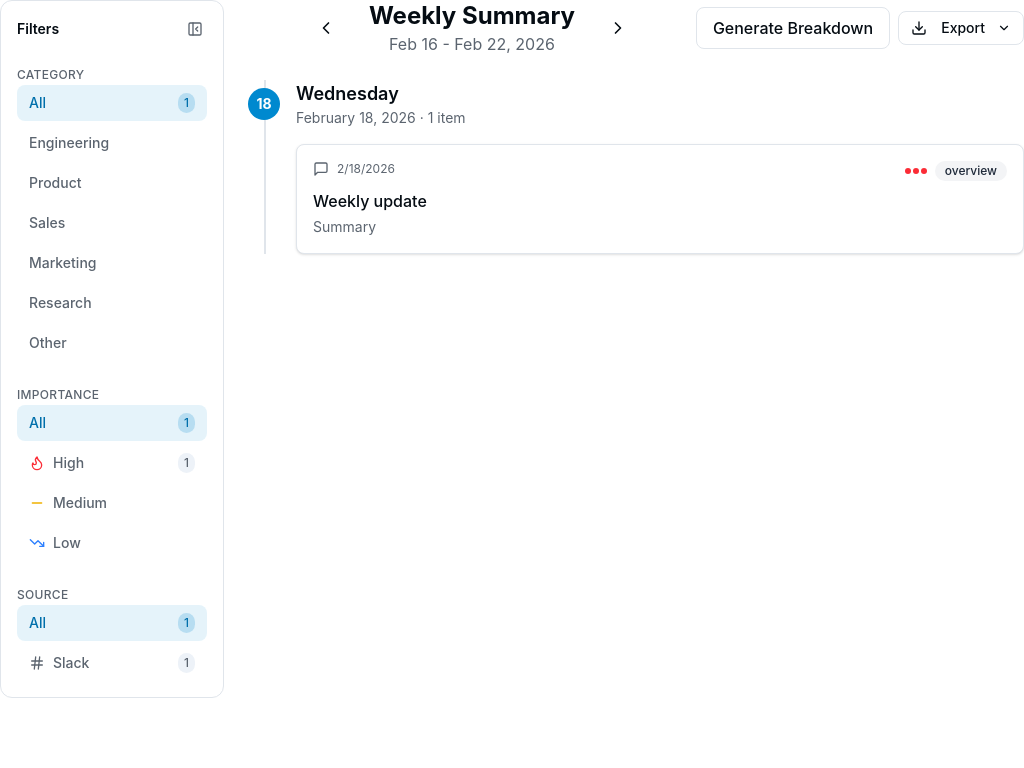
WeeklySummaryView breakdown flow › falls back to execCommand copy when clipboard API is unavailable
Click the button "Generate Breakdown". click: (793, 28)
box: [696, 7, 890, 49]
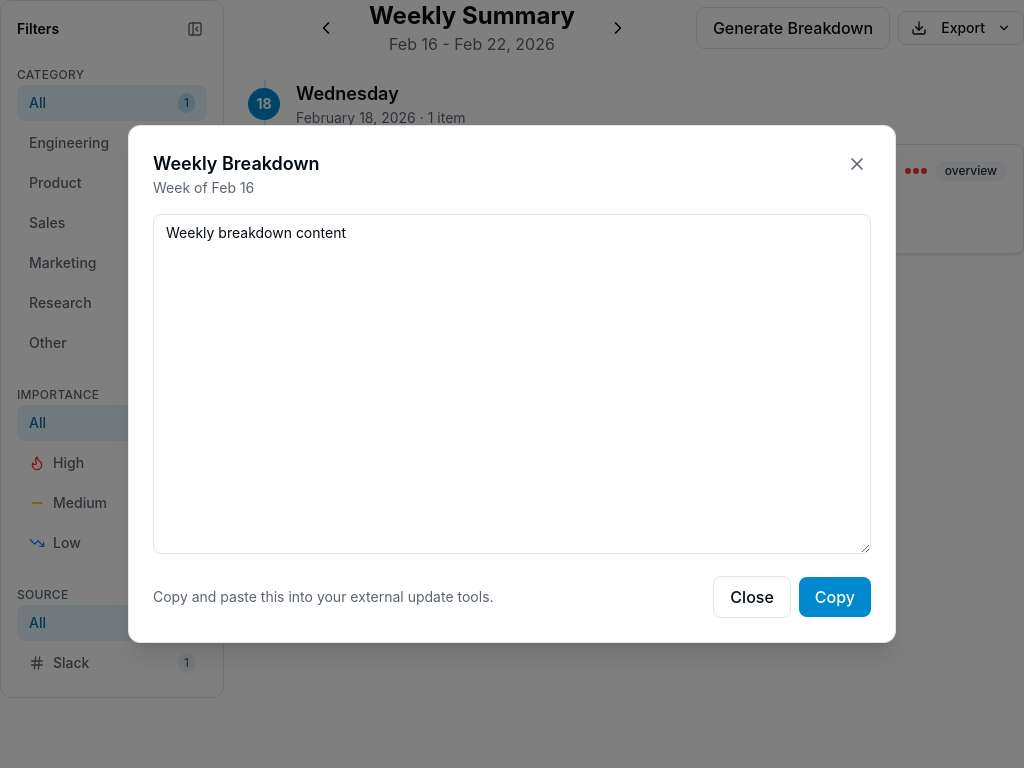
Check: the heading "Weekly Breakdown" is shown, box [153, 150, 320, 178]
Click the button "Copy". click: (835, 597)
box: [799, 577, 871, 617]
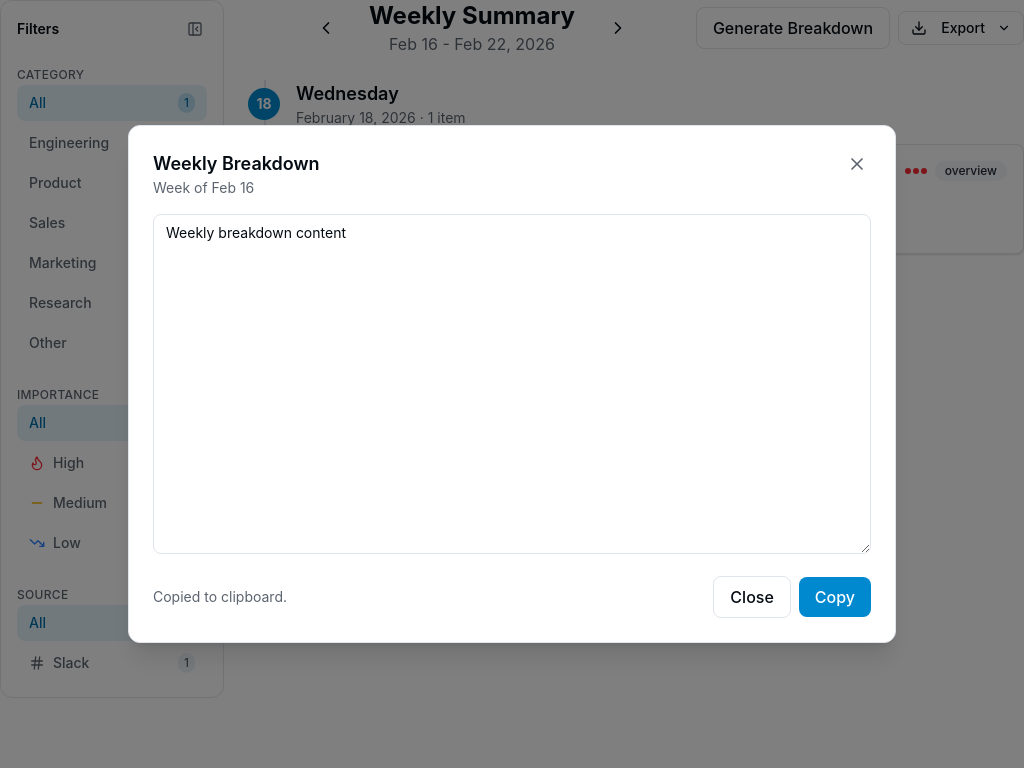
Check: the text "Copied to clipboard." is shown, box [153, 587, 287, 607]
